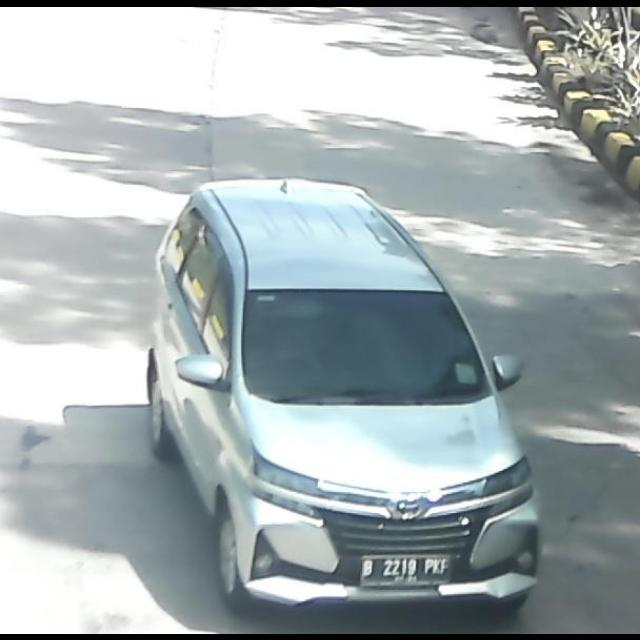plate: (360, 552, 456, 590)
